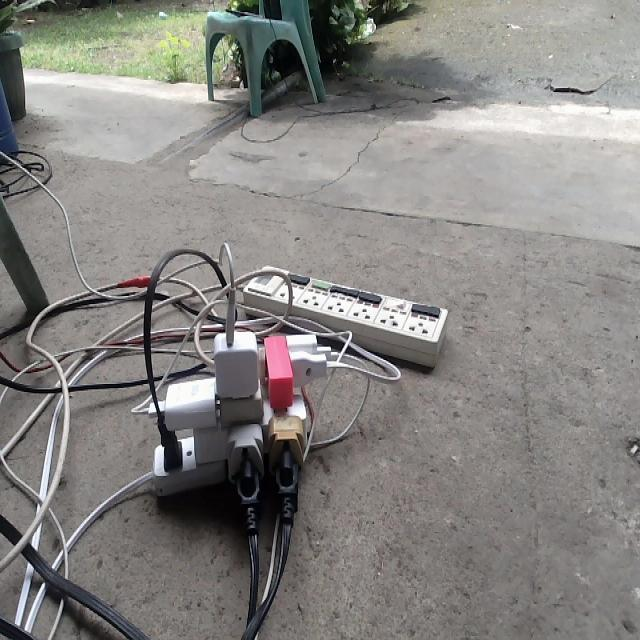-: (95, 295, 379, 528)
